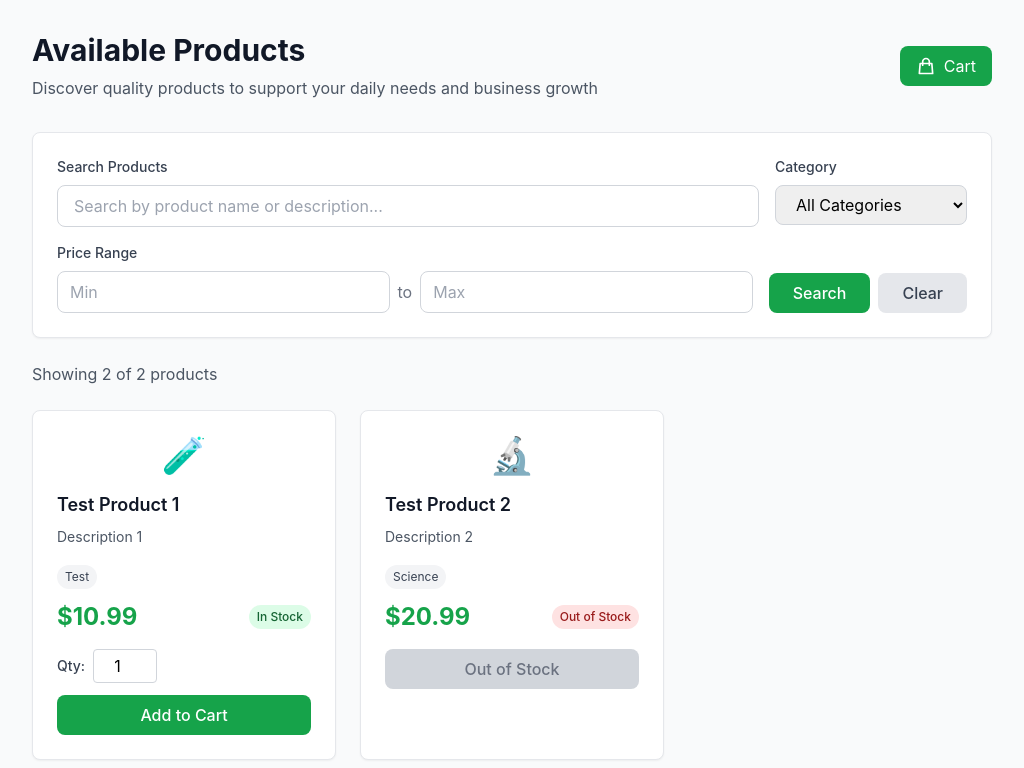
Test: ProductsPage › shows no products found message when no results
Expected: the heading "Test Product 1" is shown, [57, 494, 180, 515]
Type "Non-existent Product" into the field labelled "Search Products". click: (408, 206)
box: [57, 185, 759, 227]
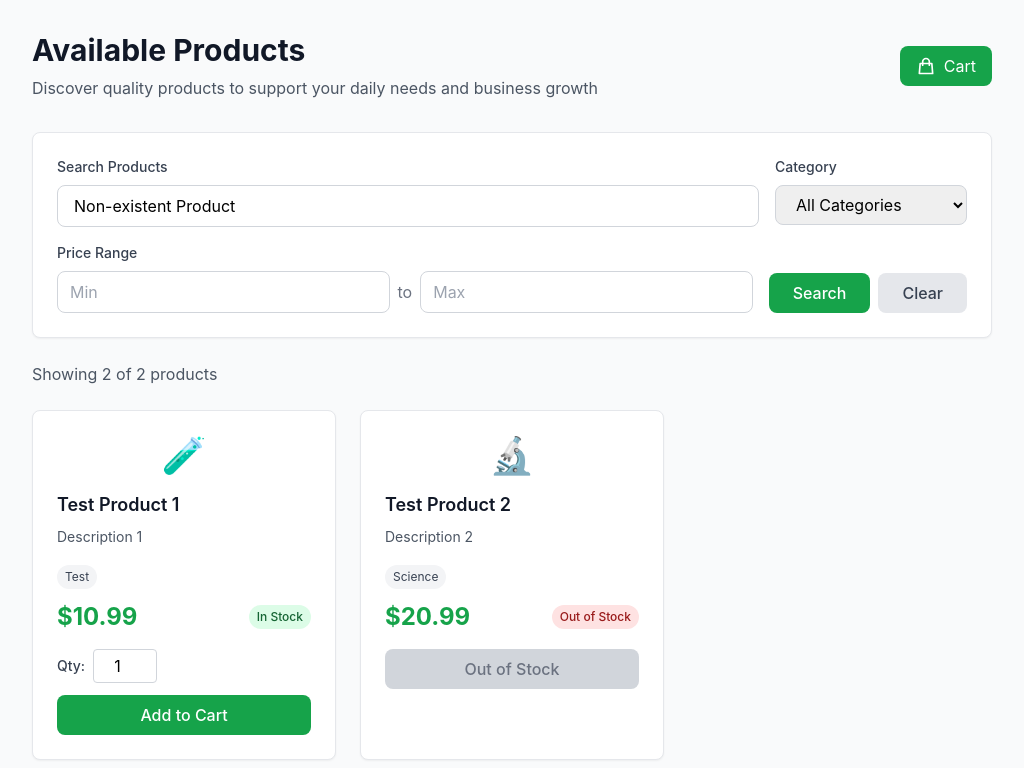
Click the button "Search". click: (820, 293)
box: [769, 273, 870, 313]
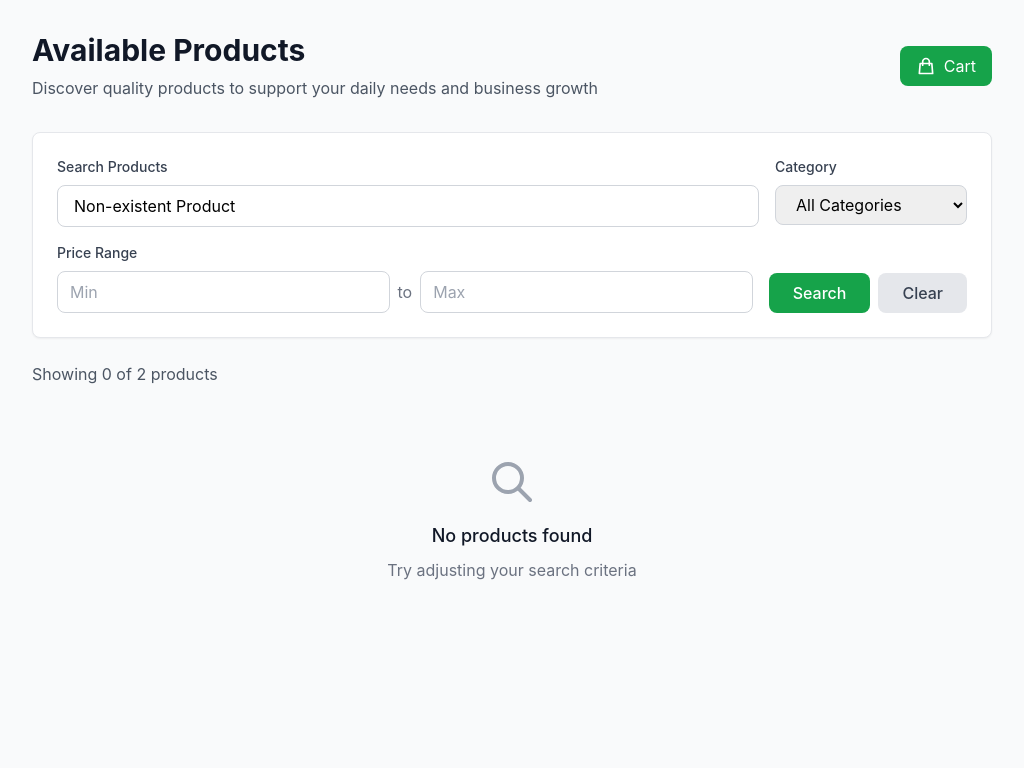
Expected: the heading "No products found" is shown, [432, 525, 592, 546]
Expected: the text "Try adjusting your search criteria" is shown, [387, 560, 637, 580]
